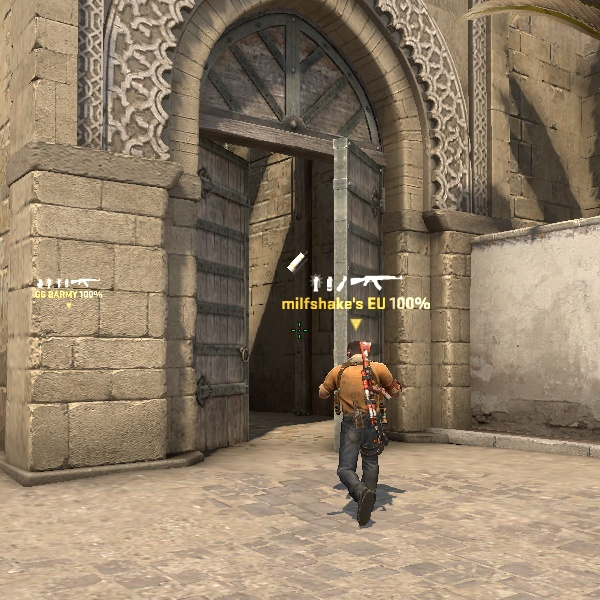t_body: (314, 332, 414, 527)
t_head: (342, 334, 376, 369)
